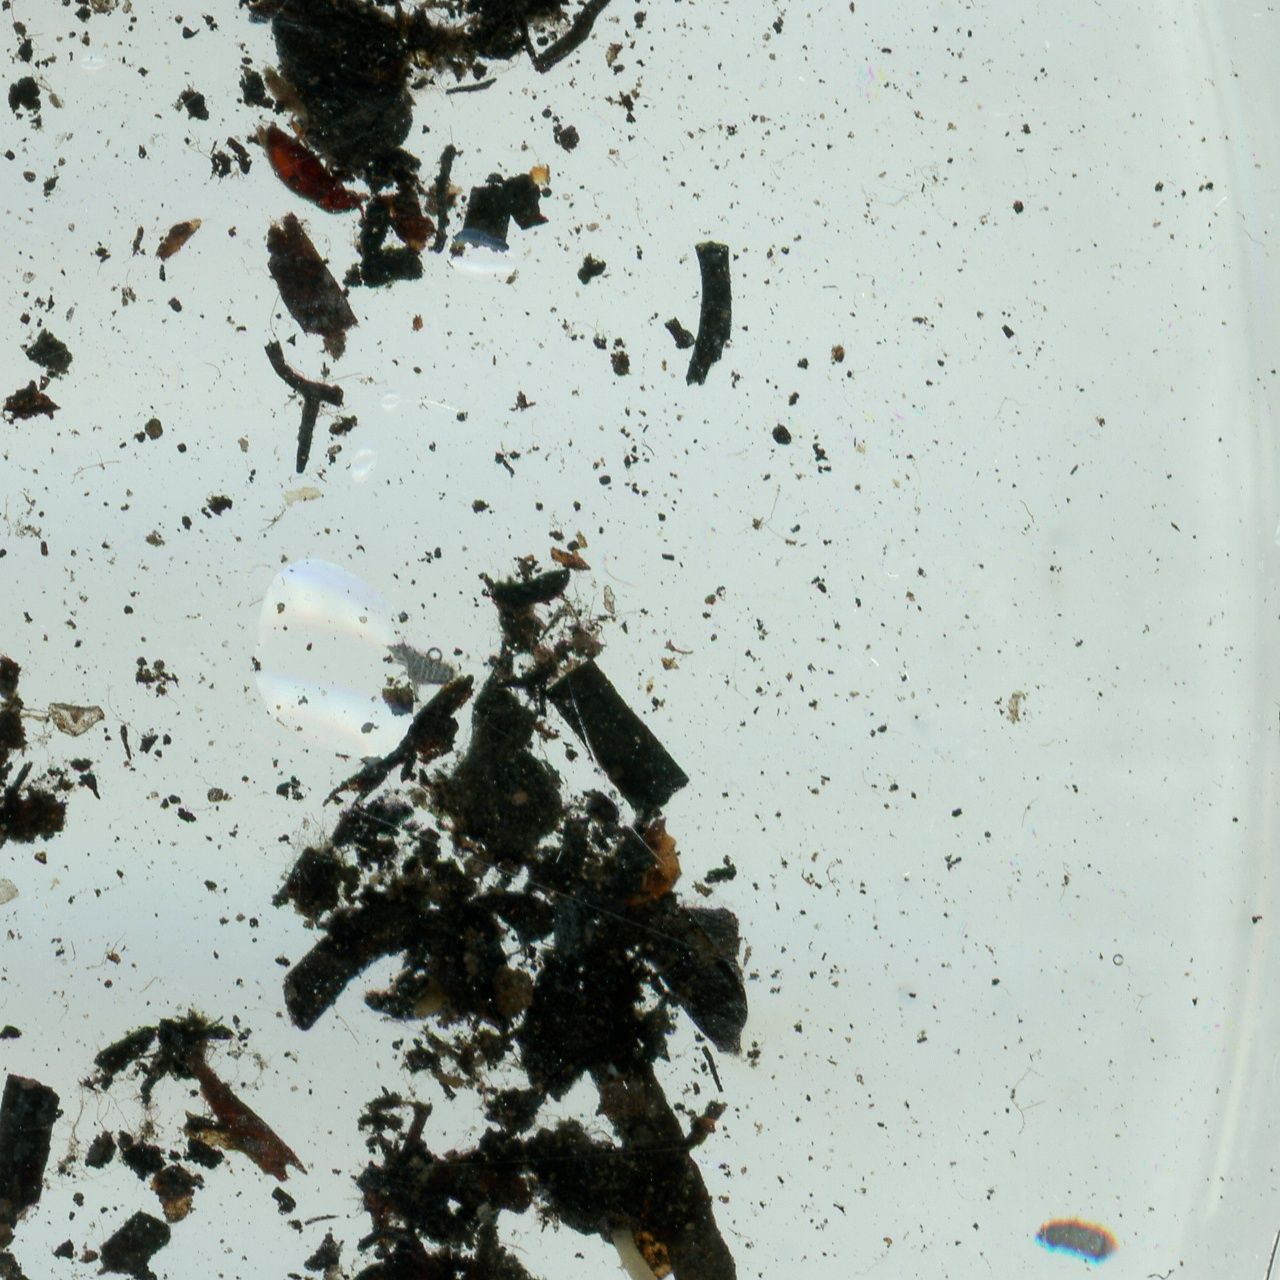arthropod: (232, 86, 395, 253), (1032, 1212, 1122, 1267), (380, 639, 463, 692)
